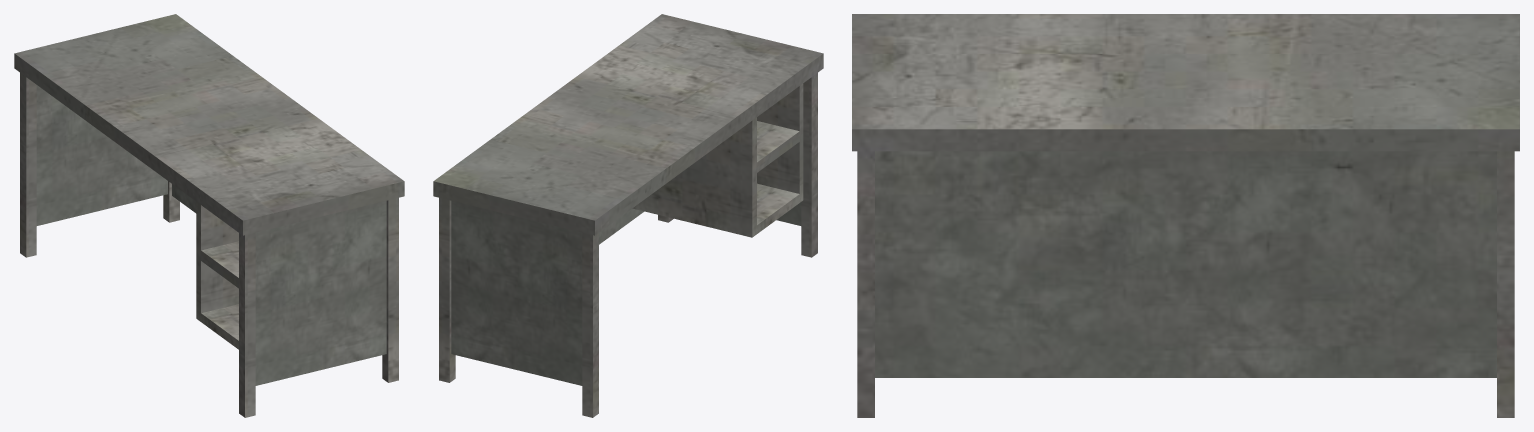
The model's file is table_02.glb.
The picture shows the model from 3 angles, left to right: view 1: azimuth 30°, elevation 25°; view 2: azimuth 150°, elevation 25°; view 3: azimuth 270°, elevation 25°; orthographic projection. The views are drawn at different scales.
Parts seen in each view (by area): view 1: Desk_01; view 2: Desk_01; view 3: Desk_01.
Boxes of the visible parts, <box> form: Desk_01: <box>14,14,404,417</box>; Desk_01: <box>433,14,823,417</box>; Desk_01: <box>852,14,1519,417</box>.
Bounding box in the file's own units: 0.8171 × 0.9643 × 2.
Materials: 2 (2 with a texture image).
